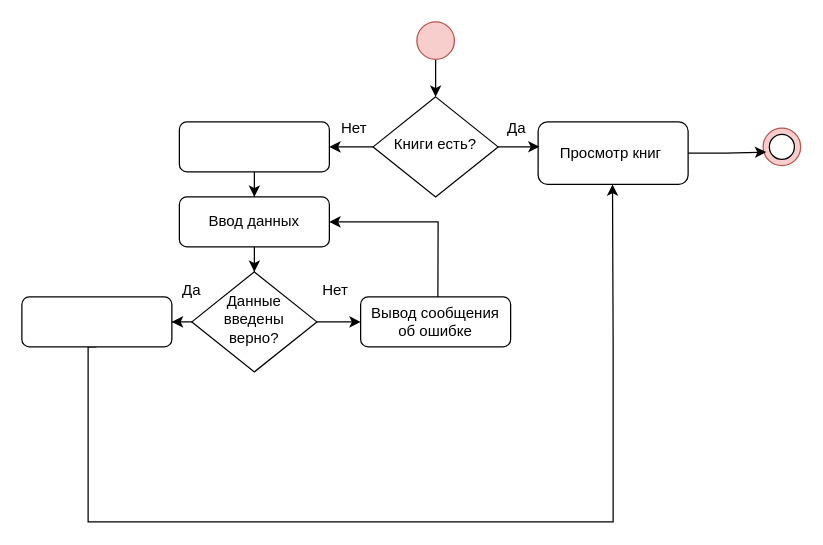
Image size: 823x545. Some labels were removed from this diagram. The shapes that lost their labels are listed below. From the top down, each one's centre as x and y in pixels, then its label:
At (x=253, y=146): "Добавить книгу".
At (x=96, y=321): "Добавление книги".
